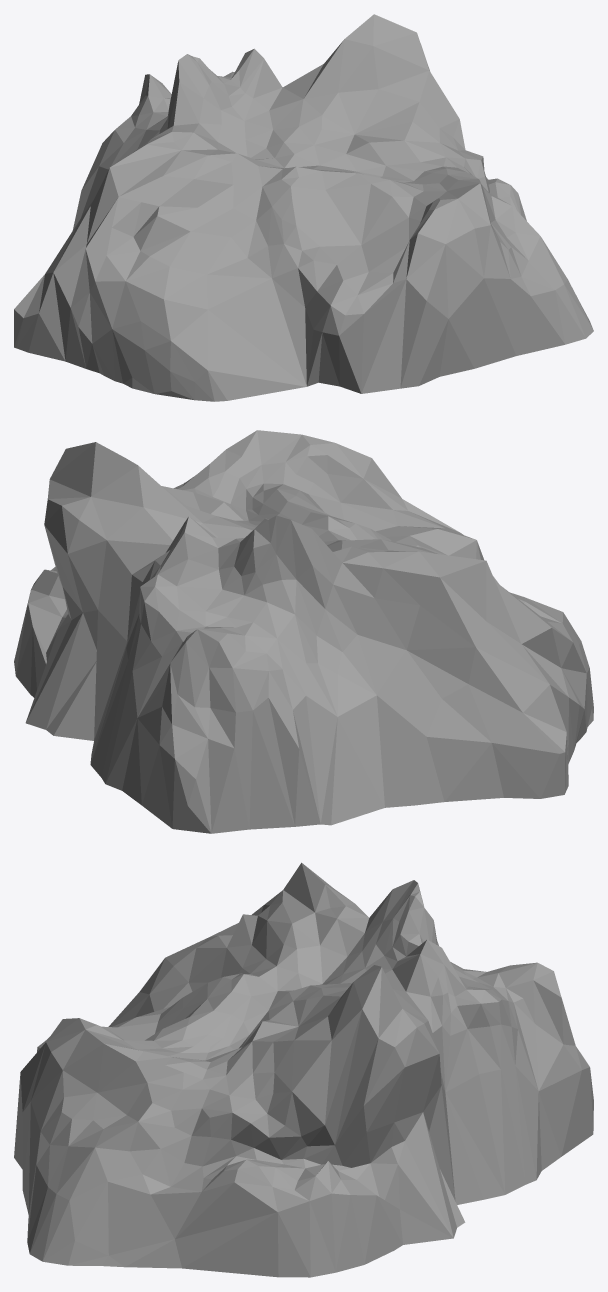
The model's file is mountains_001.glb.
3 renders of one model, top to bottom at view 1: azimuth 30°, elevation 25°; view 2: azimuth 150°, elevation 25°; view 3: azimuth 270°, elevation 25°, orthographic. The views are drawn at different scales.
Visible parts, largest first — view 1: mountains_001; view 2: mountains_001; view 3: mountains_001.
Boxes of the visible parts, <box> form: mountains_001: <box>14,14,593,401</box>; mountains_001: <box>14,430,593,833</box>; mountains_001: <box>14,862,593,1277</box>.
Bounding box in the file's own units: 73.28 × 32.83 × 67.45.
1 material, 1 textured.
